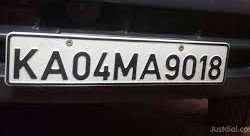numberplate: (5, 31, 229, 86)
